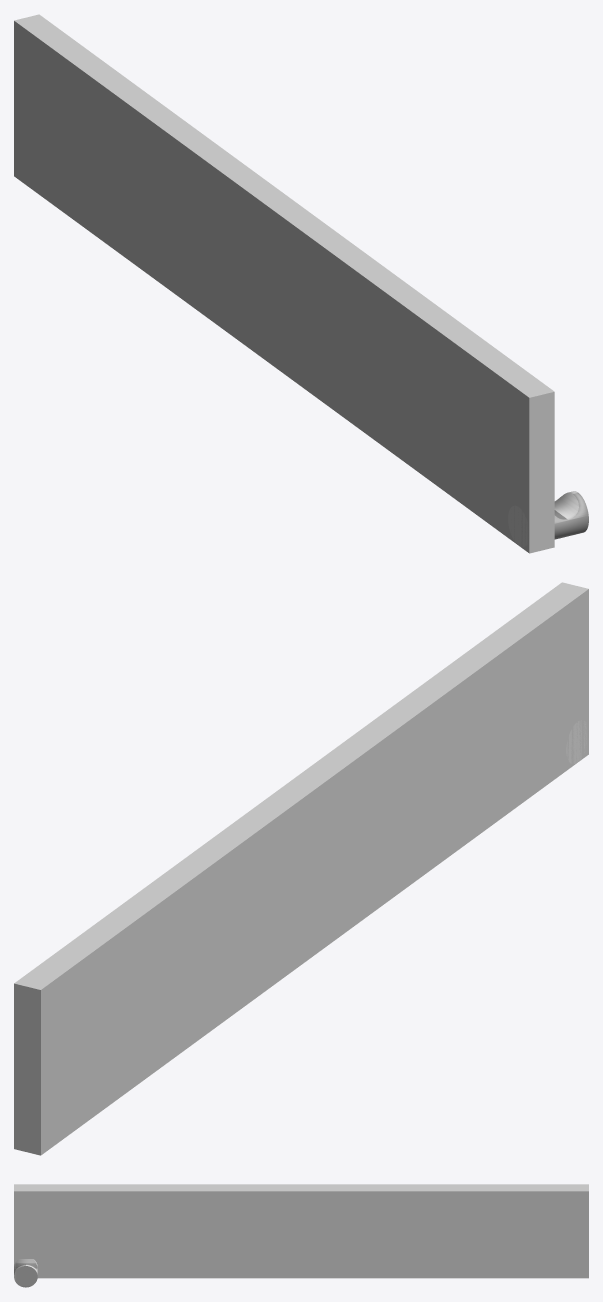
File: MOC-TREO-TU-GIAY.glb
3 views of the same model, one above another, from view 1: azimuth 30°, elevation 25°; view 2: azimuth 150°, elevation 25°; view 3: azimuth 270°, elevation 25° (orthographic). The views are drawn at different scales.
Visible parts, largest first — view 1: THANH-GO-TREO, MOC-TREO-DAU; view 2: THANH-GO-TREO; view 3: THANH-GO-TREO, MOC-TREO-DAU.
Boxes of the visible parts, x1,y1,x2,y2 form: THANH-GO-TREO: (14, 14, 554, 553); MOC-TREO-DAU: (508, 491, 588, 547); THANH-GO-TREO: (14, 582, 588, 1155); THANH-GO-TREO: (14, 1184, 588, 1278); MOC-TREO-DAU: (14, 1259, 37, 1287).
Bounding box in the file's own units: 0.04 × 0.1 × 0.6.
15 materials, 14 textured.
